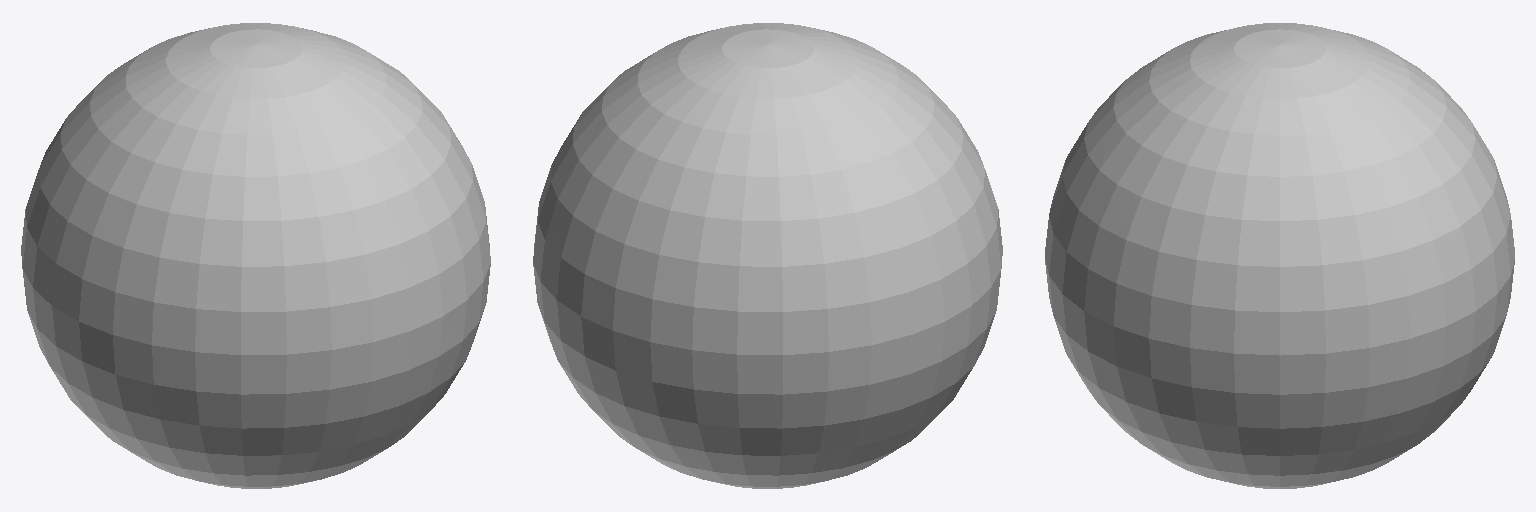
Rendered from Marble3.obj.
3 renders of one model, left to right at view 1: azimuth 30°, elevation 25°; view 2: azimuth 150°, elevation 25°; view 3: azimuth 270°, elevation 25°, orthographic.
Visible parts, largest first — view 1: Marble3; view 2: Marble3; view 3: Marble3.
Part boxes in pixels (x1,y1,x2,y2): Marble3: (21,23,490,488); Marble3: (533,23,1002,488); Marble3: (1045,23,1514,488).
Bounding box in the file's own units: 0.0131 × 0.013 × 0.0131.